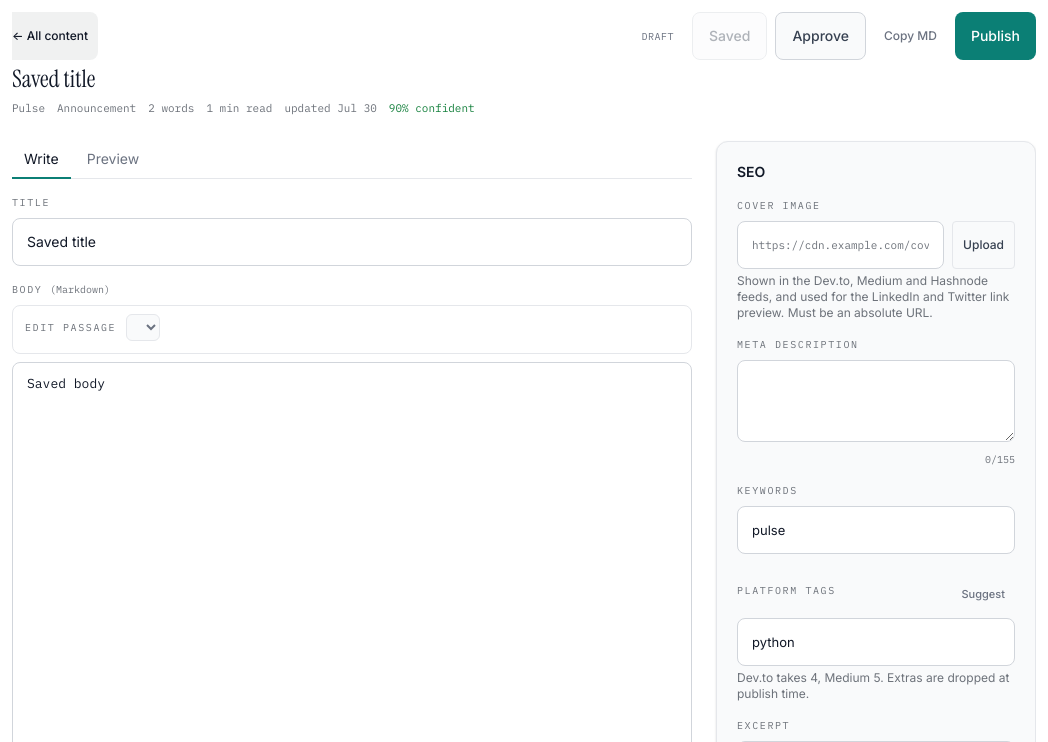
Test: the SEO panel › recounts as you type rather than reporting the last save
Expected: the field showing "Saved title" is shown, [12,218,692,266]
Type "abcde" into the text box labelled "Meta description".
click(876, 400); type("abcde")  # box [737,360,1015,442]
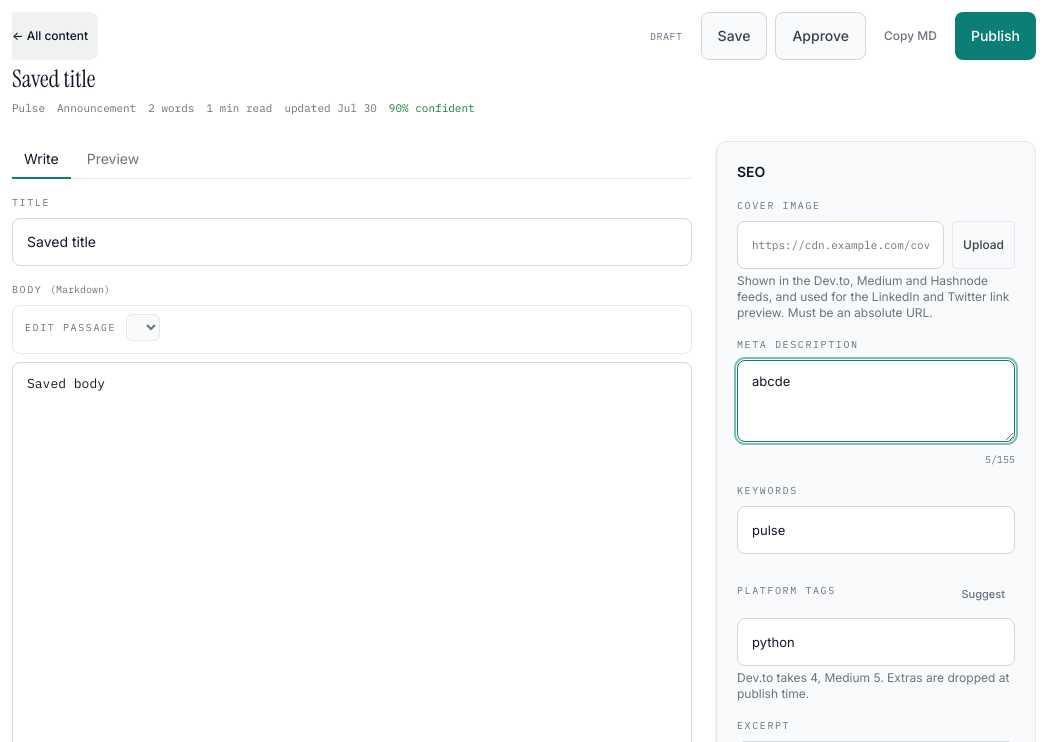
Now the text "5/155" is shown, box [985,453,1015,466]
